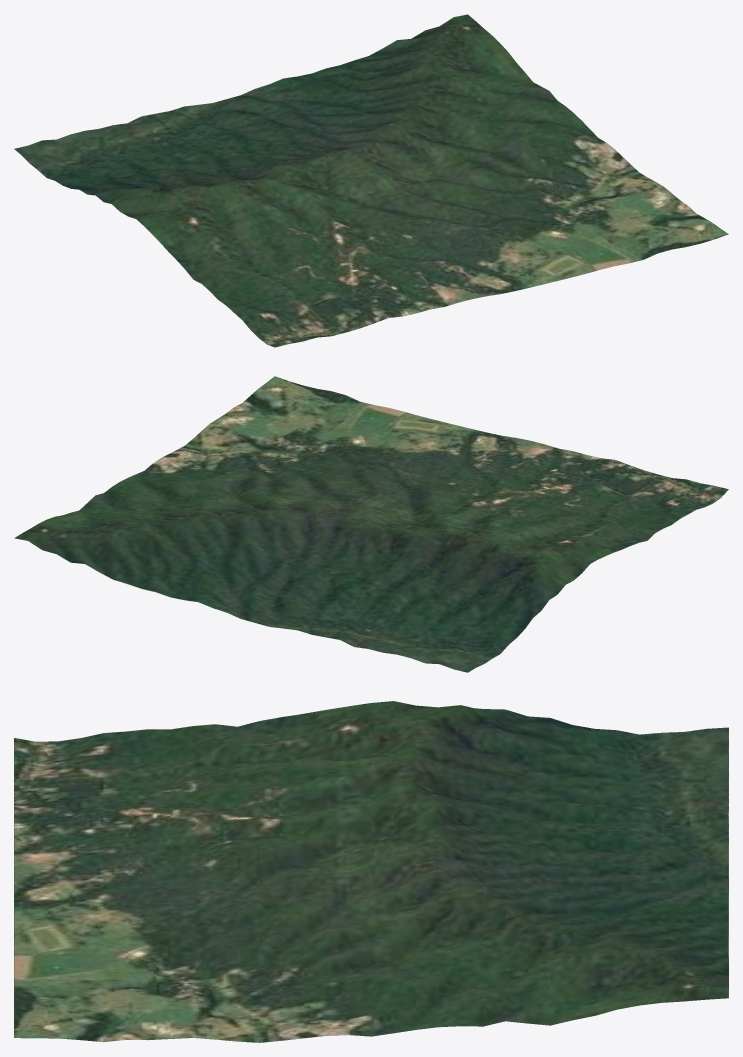
3 views of the same model, one above another, from view 1: azimuth 30°, elevation 25°; view 2: azimuth 150°, elevation 25°; view 3: azimuth 270°, elevation 25° (orthographic). The views are drawn at different scales.
Bounding box in the file's own units: 3900 × 297 × 3883.
1 material, 1 textured.
